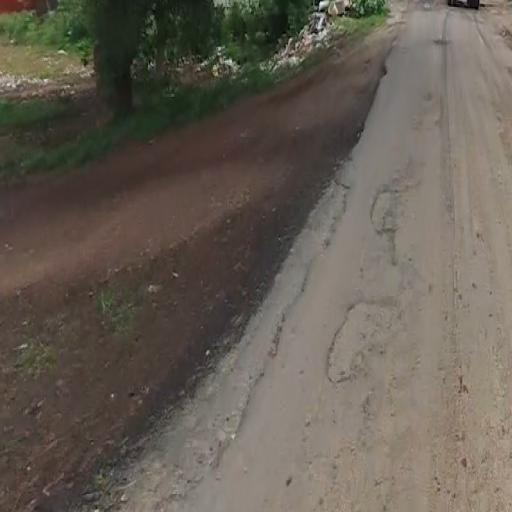edge_damage: (143, 270, 319, 496), (305, 155, 352, 287)
pothole: (322, 281, 410, 401), (366, 160, 428, 271)
